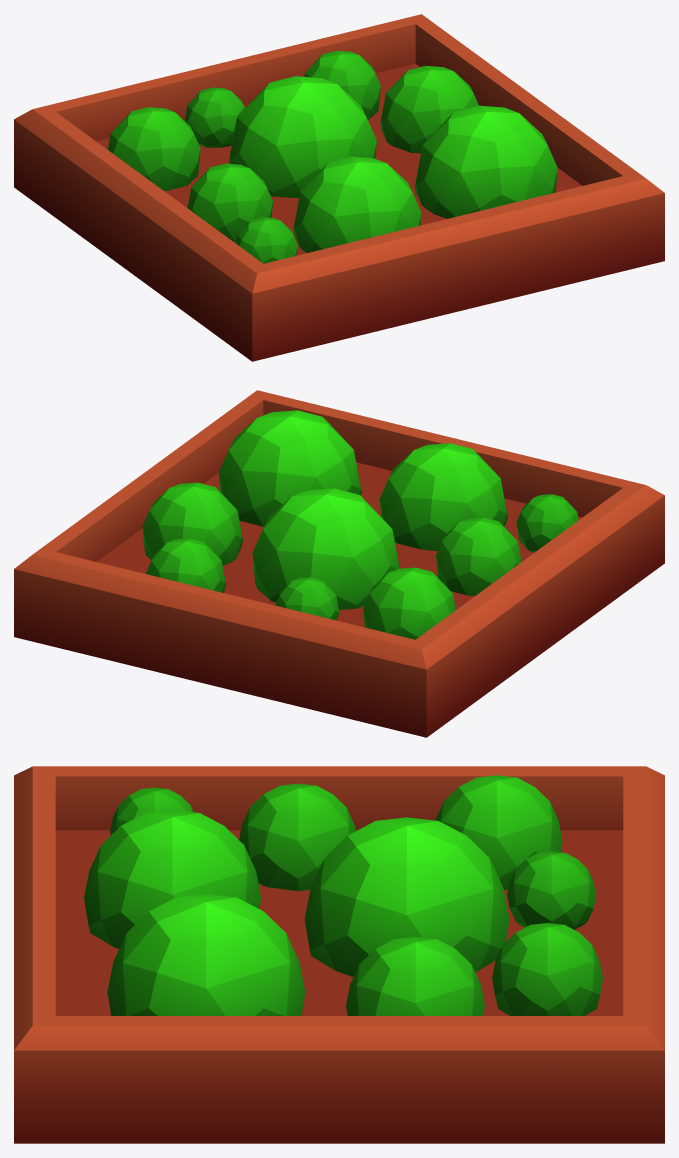
The model's file is crop1.glb.
The picture shows the model from 3 angles, top to bottom: view 1: azimuth 30°, elevation 25°; view 2: azimuth 150°, elevation 25°; view 3: azimuth 270°, elevation 25°; orthographic projection. The views are drawn at different scales.
Parts seen in each view (by area): view 1: Plane; view 2: Plane; view 3: Plane.
Part boxes in pixels (bbox=[...]): Plane: bbox=[14, 14, 664, 361]; Plane: bbox=[14, 390, 664, 737]; Plane: bbox=[14, 766, 664, 1143].
Size of the model in its own units: 2 by 0.585 by 2.
1 material, 1 textured.
